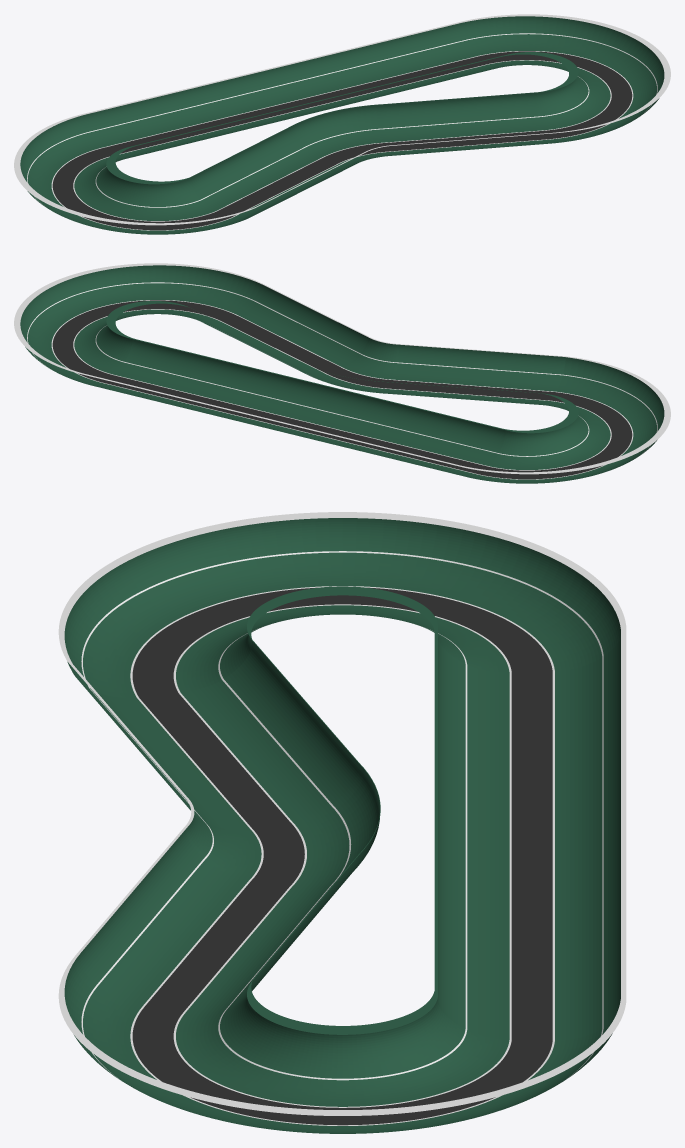
The model's file is HyperCup.exported.glb.
3 views of the same model, one above another, from view 1: azimuth 30°, elevation 25°; view 2: azimuth 150°, elevation 25°; view 3: azimuth 270°, elevation 25° (orthographic). The views are drawn at different scales.
Parts seen in each view (by area): view 1: Torus.002; view 2: Torus.002; view 3: Torus.002.
Boxes of the visible parts, x1,y1,x2,y2 form: Torus.002: (14,14,670,234); Torus.002: (14,263,670,483); Torus.002: (58,512,626,1133).
Size of the model in its own units: 381 by 13.38 by 151.
